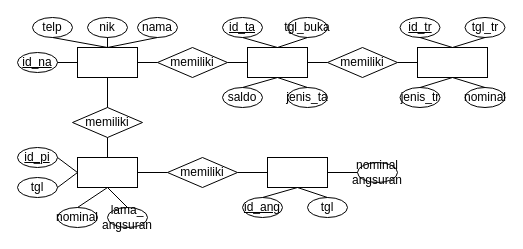
The diagram is 523 pixels wide and 249 high, and some of its shapes have lost their labels. Each missing label, with the centre of its shape:
"angsuran" goes at pixel 297 172.
"nasabah" goes at pixel 107 62.
"pinjaman" goes at pixel 107 172.
"tabungan" goes at pixel 277 62.
"transaksi" goes at pixel 452 62.
